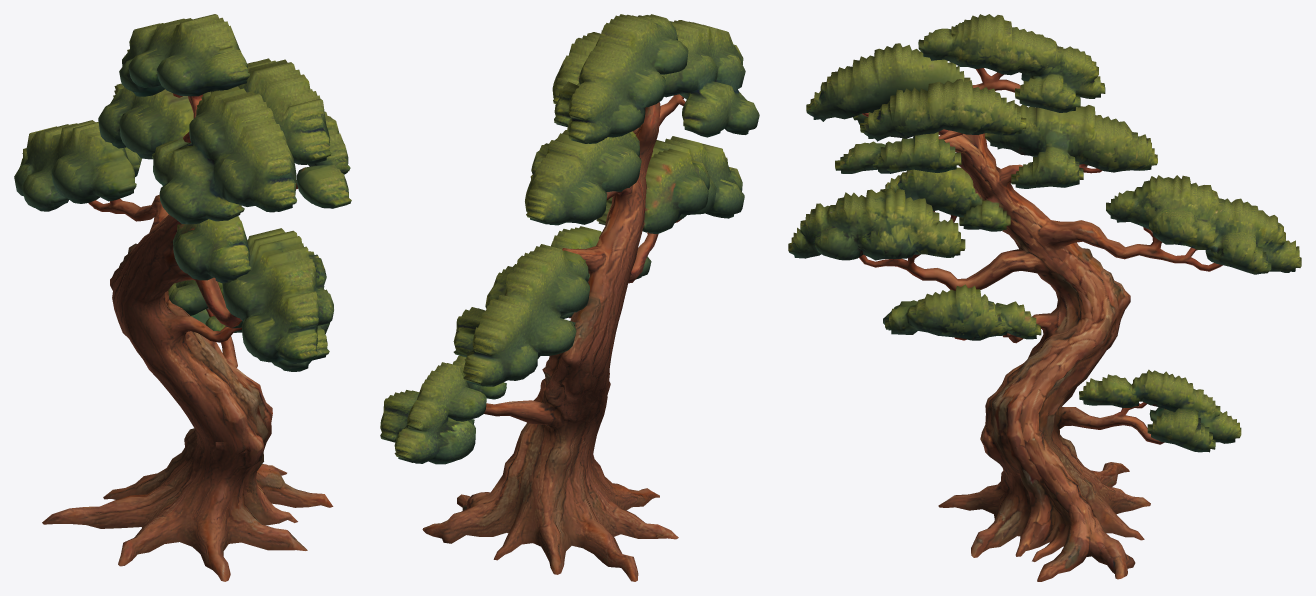
File: output_model_url.glb
3 views of the same model, side by side, from view 1: azimuth 30°, elevation 25°; view 2: azimuth 150°, elevation 25°; view 3: azimuth 270°, elevation 25° (orthographic). The views are drawn at different scales.
Visible parts, largest first — view 1: tripo_node_5b2a42e3-05ed-4106-838c-9a34d51be2f4; view 2: tripo_node_5b2a42e3-05ed-4106-838c-9a34d51be2f4; view 3: tripo_node_5b2a42e3-05ed-4106-838c-9a34d51be2f4.
Part boxes in pixels (left/top/right/bottom): tripo_node_5b2a42e3-05ed-4106-838c-9a34d51be2f4: left=14, top=14, right=351, bottom=581; tripo_node_5b2a42e3-05ed-4106-838c-9a34d51be2f4: left=380, top=14, right=759, bottom=581; tripo_node_5b2a42e3-05ed-4106-838c-9a34d51be2f4: left=788, top=14, right=1301, bottom=581.
Bounding box in the file's own units: 0.4702 × 0.9995 × 0.9399.
Materials: 1 (1 with a texture image).
